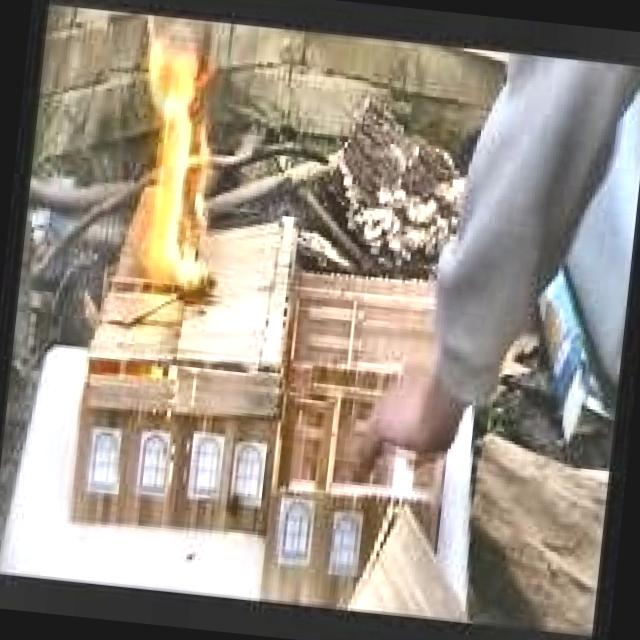fire: (117, 39, 242, 296)
